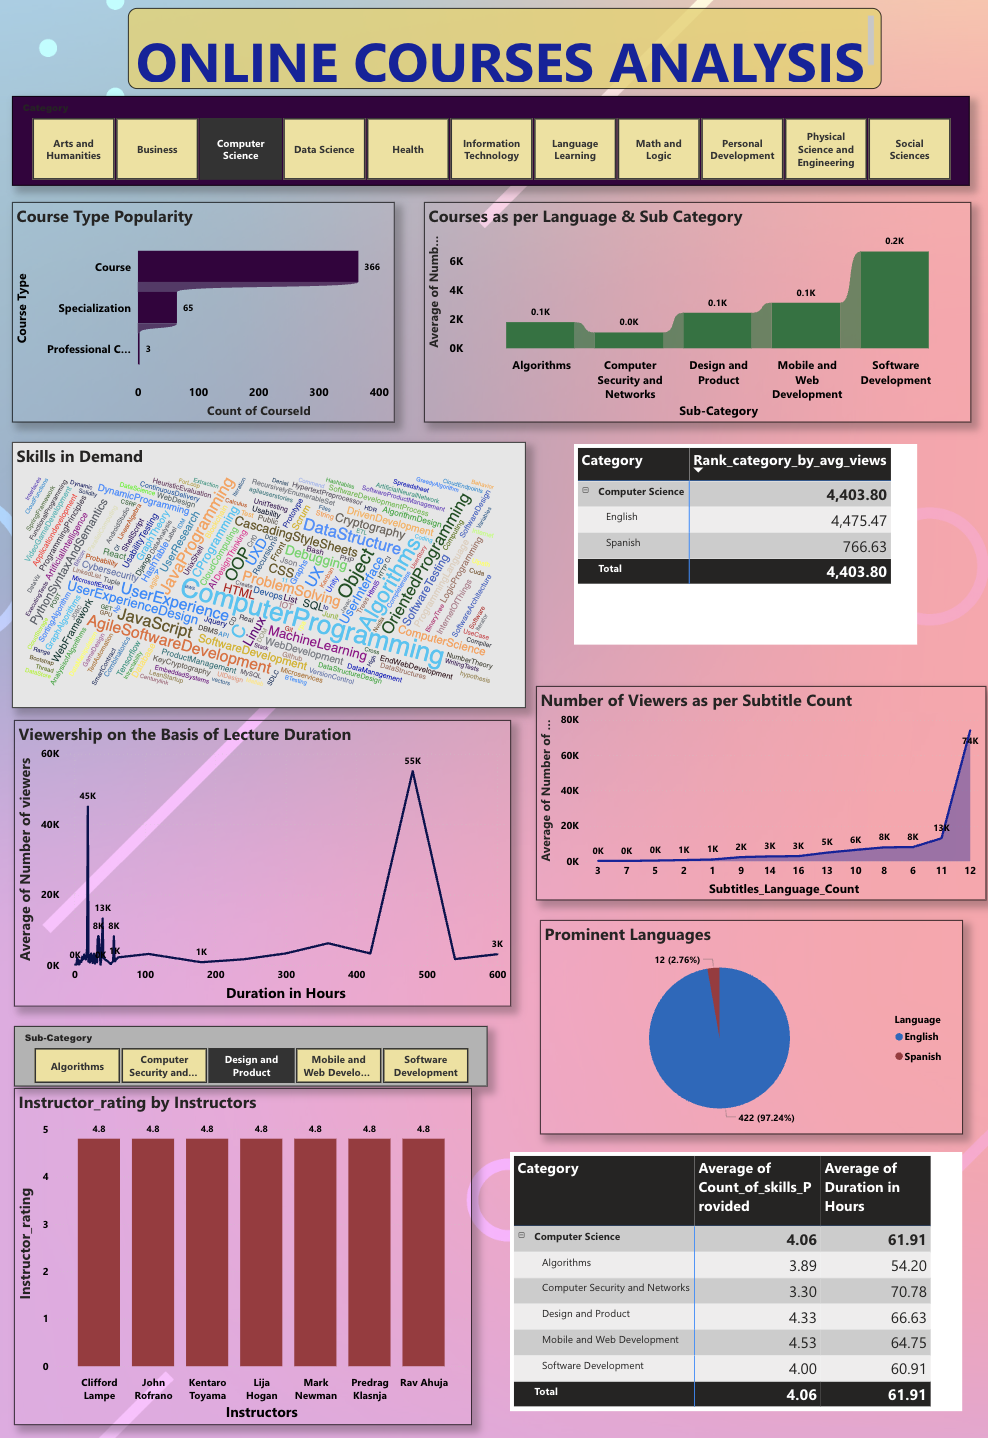

This screenshot's page, from the dashboard's own definition file:
{"tool":"powerbi","page":{"name":"Page 1","canvas":[1300,1900],"ordinal":0},"visuals":[{"type":"textbox","box":[168.3,15,991.7,106.7],"z":0},{"type":"slicer","fields":{"Values":["Online_Courses.Category"]},"box":[16.4,132.7,1260,118.2],"z":1000},{"type":"barChart","title":"Course Type Popularity","fields":{"Category":["Online_Courses.Course Type"],"Y":["Online_Courses.CourseId"]},"box":[16.7,270,503.3,290],"z":2000},{"type":"columnChart","title":"Courses as per Language & Sub Category ","fields":{"Category":["Online_Courses.Sub-Category","Online_Courses.Language"],"Y":["Online_Courses.Number of viewers"]},"box":[556.7,270,720,290],"z":3000},{"type":"WordCloud1447959067750","title":"Skills in Demand","fields":{"Category":["Online_Courses.Skills"]},"box":[16,586,676,350],"z":4000},{"type":"pieChart","title":"Prominent Languages","fields":{"Category":["Online_Courses.Language"],"Y":["Online_Courses.CourseId"]},"box":[710.3,1215.4,556.4,282.1],"z":5000},{"type":"pivotTable","fields":{"Rows":["Online_Courses.Category","Online_Courses.Language"],"Values":["Online_Courses.Rank_category_by_avg_views"]},"box":[756.4,589.7,451.3,264.1],"z":6000},{"type":"lineChart","title":"Number of Viewers as per Subtitle Count","fields":{"Category":["Online_Courses.Subtitles_Language_Count"],"Y":["Online_Courses.Number of viewers"]},"box":[705.1,907.7,592.3,282.1],"z":7000},{"type":"columnChart","fields":{"Category":["Teachers.Instructors"],"Y":["Teachers.Instructor_rating"]},"box":[17.9,1435.9,602.6,443.6],"z":8000},{"type":"slicer","fields":{"Values":["Teachers.Sub-Category"]},"box":[17.9,1356.4,623.1,79.5],"z":9000},{"type":"lineChart","title":"Viewership on the Basis of Lecture Duration","fields":{"Category":["Online_Courses.Duration in Hours"],"Y":["Online_Courses.Number of viewers"]},"box":[17.9,953.8,653.8,376.9],"z":10000},{"type":"pivotTable","fields":{"Rows":["Online_Courses.Category","Online_Courses.Sub-Category"],"Values":["Online_Courses.Count_of_skills_Provided","Online_Courses.Duration in Hours"]},"box":[671.8,1520.5,594.9,341],"z":11000}]}

Visuals, with their boxes in screenshot pixels (x1, y1, x2, y2), scaled from the page's 1300x1900 canvas onto the 990x1438 screenshot:
textbox: [x1=128, y1=11, x2=883, y2=92]
slicer - Online_Courses.Category: [x1=12, y1=100, x2=972, y2=190]
"Course Type Popularity" barChart: [x1=13, y1=204, x2=396, y2=424]
"Courses as per Language & Sub Category " columnChart: [x1=424, y1=204, x2=972, y2=424]
"Skills in Demand" WordCloud1447959067750: [x1=12, y1=444, x2=527, y2=708]
"Prominent Languages" pieChart: [x1=541, y1=920, x2=965, y2=1133]
pivotTable - Online_Courses.Category x Online_Courses.Language: [x1=576, y1=446, x2=920, y2=646]
"Number of Viewers as per Subtitle Count" lineChart: [x1=537, y1=687, x2=988, y2=900]
columnChart - Teachers.Instructors x Teachers.Instructor_rating: [x1=14, y1=1087, x2=473, y2=1422]
slicer - Teachers.Sub-Category: [x1=14, y1=1027, x2=488, y2=1087]
"Viewership on the Basis of Lecture Duration" lineChart: [x1=14, y1=722, x2=512, y2=1007]
pivotTable - Online_Courses.Category x Online_Courses.Sub-Category: [x1=512, y1=1151, x2=965, y2=1409]
